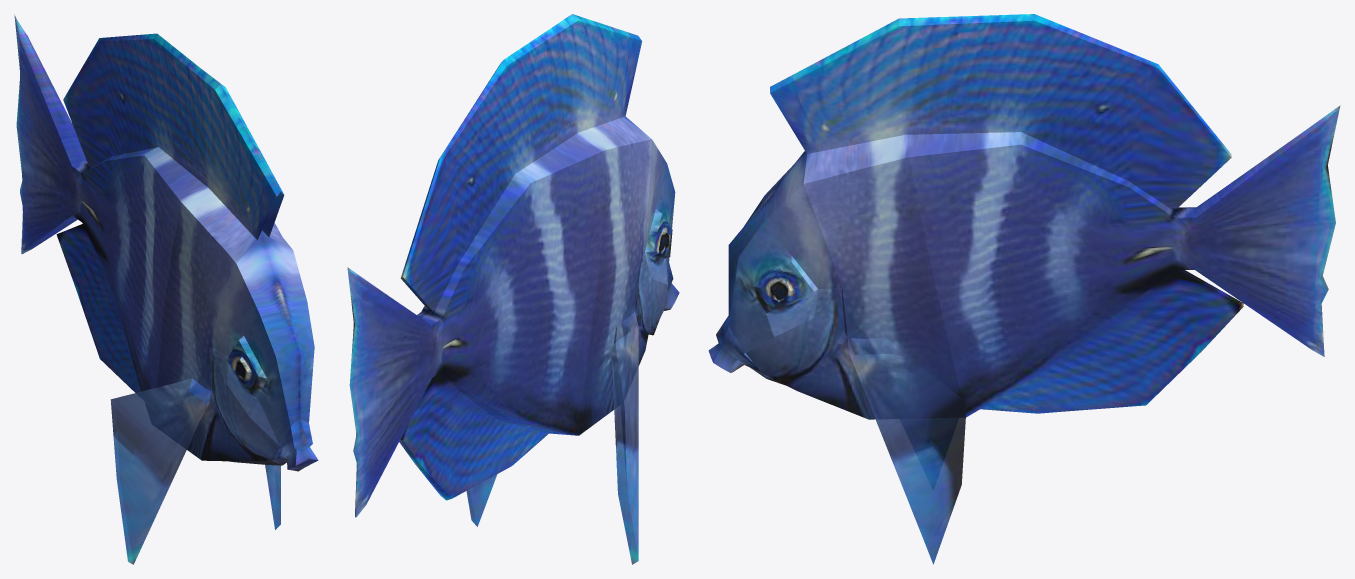
File: bluefish.fbx
3 views of the same model, side by side, from view 1: azimuth 30°, elevation 25°; view 2: azimuth 150°, elevation 25°; view 3: azimuth 270°, elevation 25° (orthographic). The views are drawn at different scales.
Parts seen in each view (by area): view 1: tropicalFishMaya2008:bluefish1; view 2: tropicalFishMaya2008:bluefish1; view 3: tropicalFishMaya2008:bluefish1.
Boxes of the visible parts, bbox=[...] form: tropicalFishMaya2008:bluefish1: bbox=[14, 14, 318, 564]; tropicalFishMaya2008:bluefish1: bbox=[347, 14, 679, 564]; tropicalFishMaya2008:bluefish1: bbox=[708, 14, 1340, 564].
Size of the model in its own units: 6.78 by 19.7 by 21.95.
